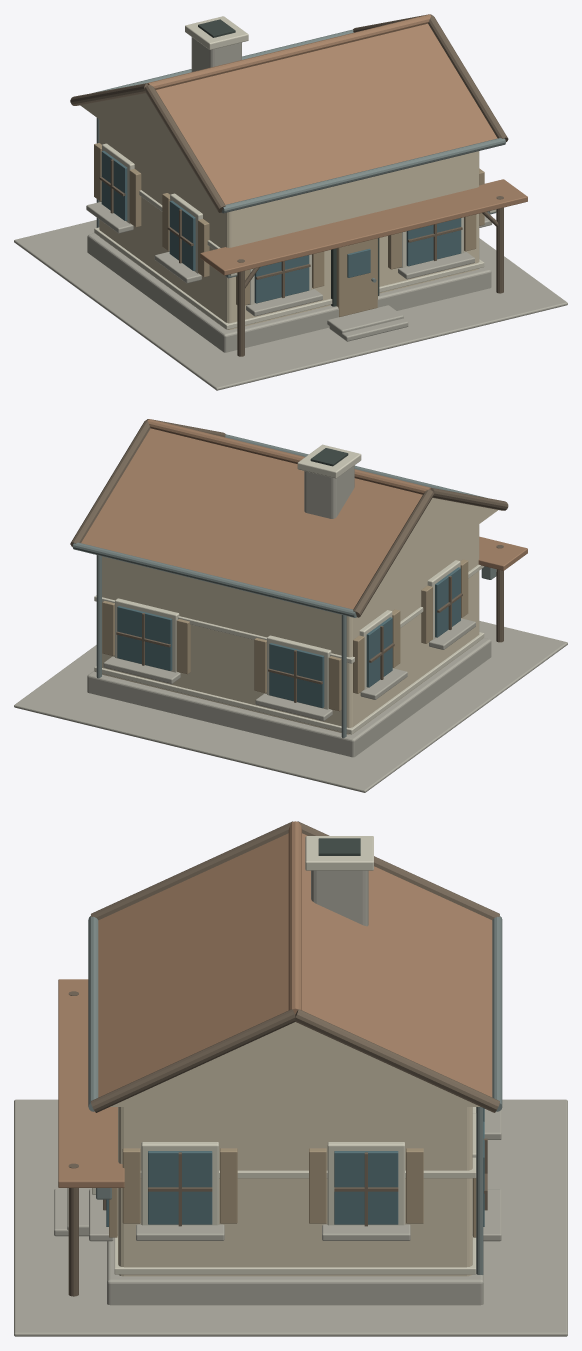
Rendered from district_art_4.glb.
3 views of the same model, one above another, from view 1: azimuth 30°, elevation 25°; view 2: azimuth 150°, elevation 25°; view 3: azimuth 270°, elevation 25° (orthographic). The views are drawn at different scales.
Visible parts, largest first — view 1: roof, stone, plaster, timber, glass, wood, trim, metal, dark; view 2: roof, stone, plaster, glass, trim, timber, wood, metal; view 3: roof, stone, plaster, timber, trim, glass, wood, metal, dark.
Part boxes in pixels (left/top/right/bottom): roof: left=147, top=14, right=527, bottom=275; stone: left=14, top=37, right=567, bottom=390; plaster: left=80, top=93, right=479, bottom=329; timber: left=70, top=14, right=508, bottom=356; glass: left=101, top=150, right=461, bottom=303; wood: left=94, top=143, right=484, bottom=316; trim: left=94, top=16, right=496, bottom=329; metal: left=93, top=29, right=505, bottom=282; dark: left=198, top=19, right=379, bottom=306; roof: left=81, top=419, right=527, bottom=609; stone: left=14, top=465, right=567, bottom=792; plaster: left=102, top=498, right=497, bottom=734; glass: left=117, top=567, right=460, bottom=708; trim: left=94, top=444, right=496, bottom=734; timber: left=70, top=419, right=508, bottom=702; wood: left=102, top=559, right=468, bottom=711; metal: left=72, top=434, right=496, bottom=738; roof: left=58, top=821, right=492, bottom=1187; stone: left=14, top=870, right=567, bottom=1336; plaster: left=110, top=1022, right=480, bottom=1276; timber: left=68, top=821, right=499, bottom=1296; trim: left=92, top=836, right=476, bottom=1274; glass: left=106, top=1108, right=484, bottom=1226; wood: left=109, top=1148, right=476, bottom=1237; metal: left=88, top=916, right=502, bottom=1274; dark: left=318, top=838, right=360, bottom=855.
Bounding box in the file's own units: 12.5 × 8.39 × 12.5.
